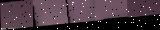scratch: (33, 0, 127, 28)
